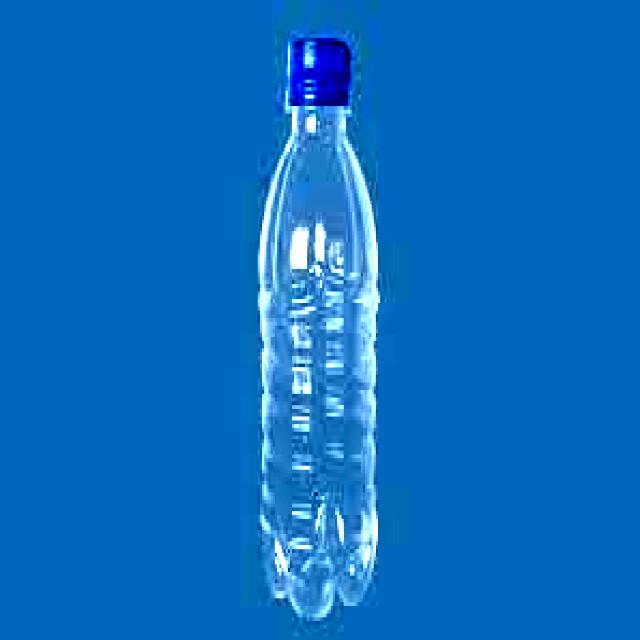plastic: (255, 31, 379, 623)
